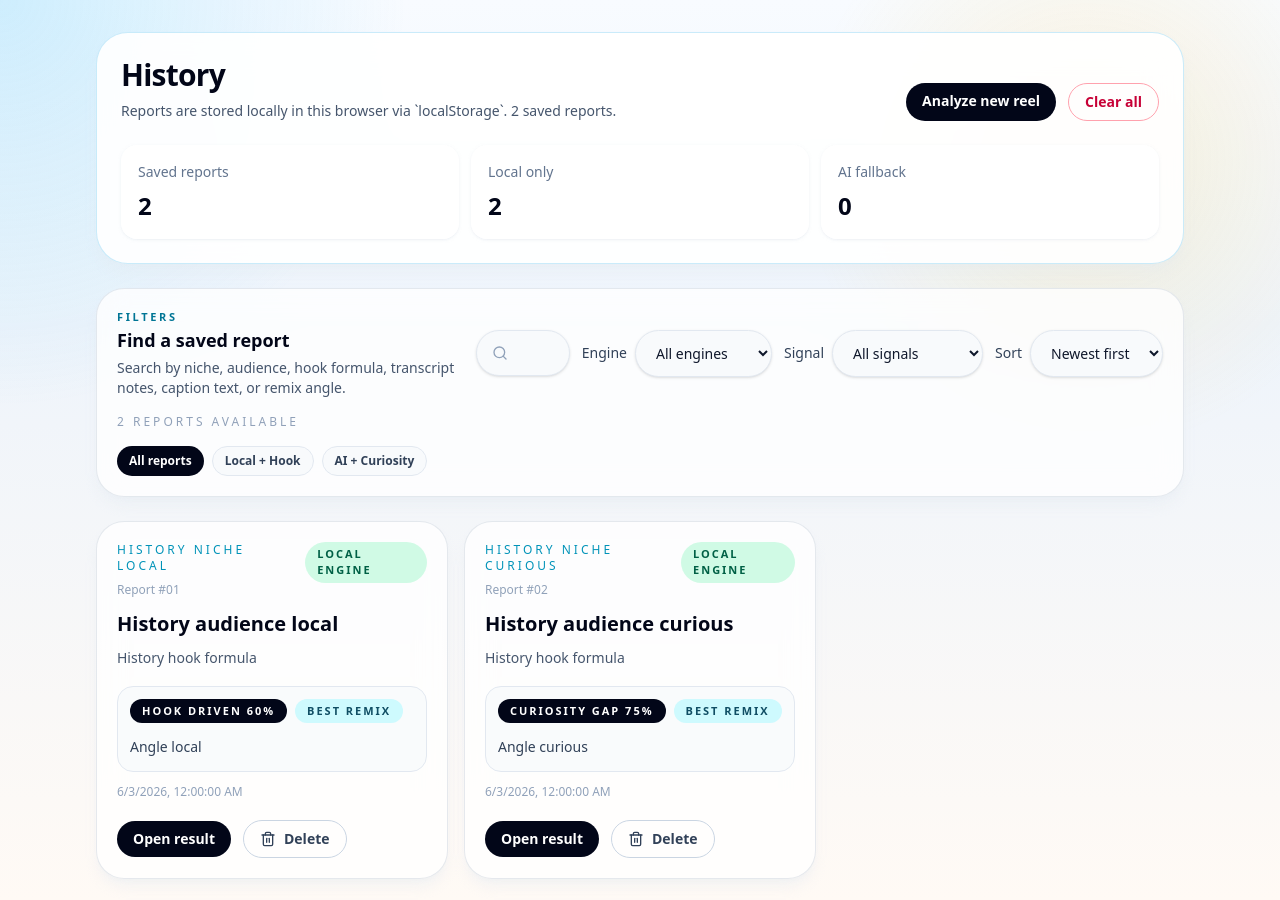
Test: HistoryPage › filters saved reports by dominant signal
Select "Curiosity gap" in the dropdown named "Filter saved reports by dominant signal" at (908, 353), box x1=832 y1=330 x2=983 y2=377
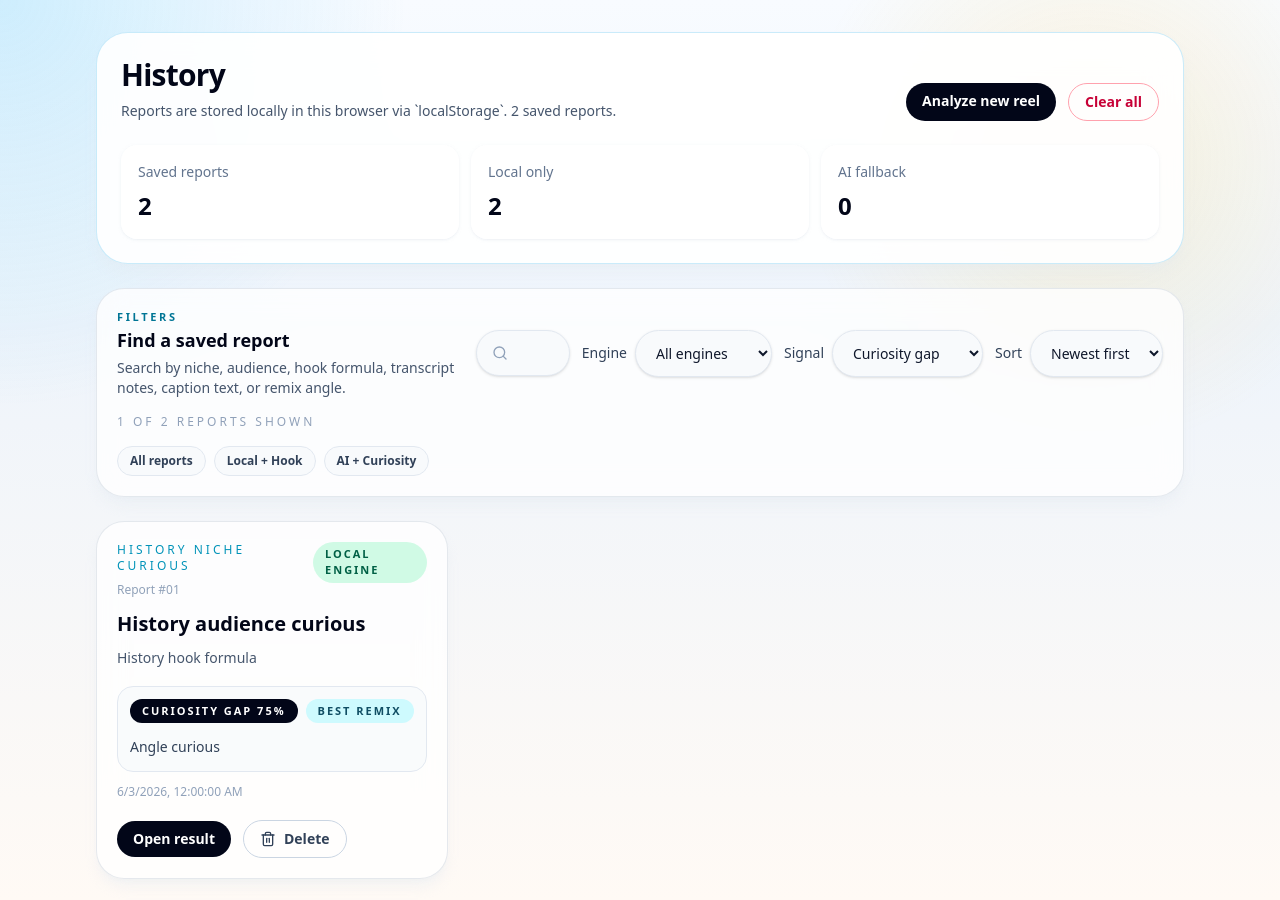
Check: the text "History niche curious" is shown, box x1=117 y1=540 x2=245 y2=574
Check: the text "History niche local" is gone
Check: the text "1 of 2 reports shown" is shown, box x1=117 y1=412 x2=315 y2=430
